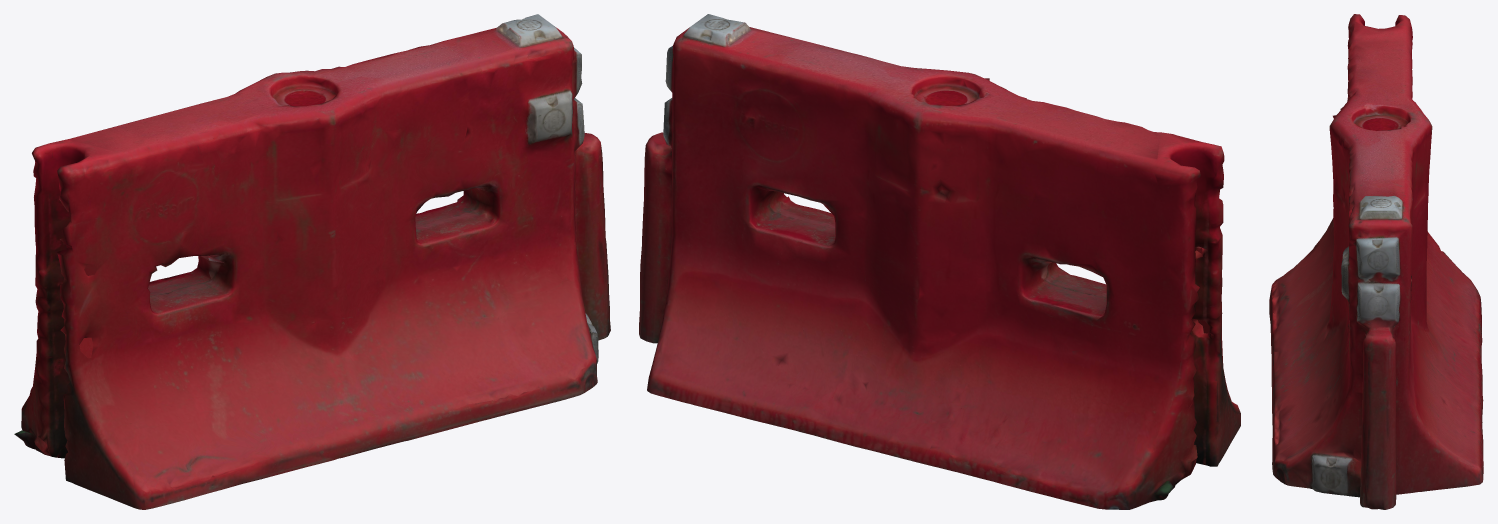
Rendered from water_barrier.glb.
The picture shows the model from 3 angles, left to right: view 1: azimuth 30°, elevation 25°; view 2: azimuth 150°, elevation 25°; view 3: azimuth 270°, elevation 25°; orthographic projection. The views are drawn at different scales.
Visible parts, largest first — view 1: Object_2; view 2: Object_2; view 3: Object_2.
Part boxes in pixels (x1,y1,x2,y2): Object_2: (14,14,610,509); Object_2: (639,14,1240,509); Object_2: (1269,14,1483,509).
Size of the model in its own units: 19.36 by 10.86 by 7.46.
Materials: 1 (1 with a texture image).
